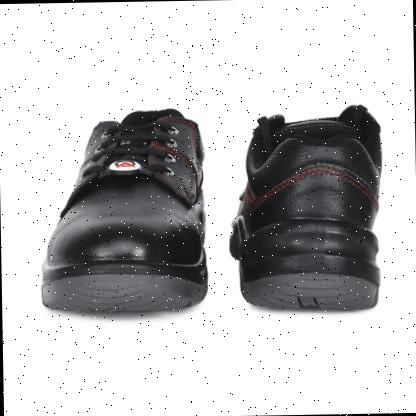bota: (32, 105, 214, 318), (222, 100, 388, 319)
